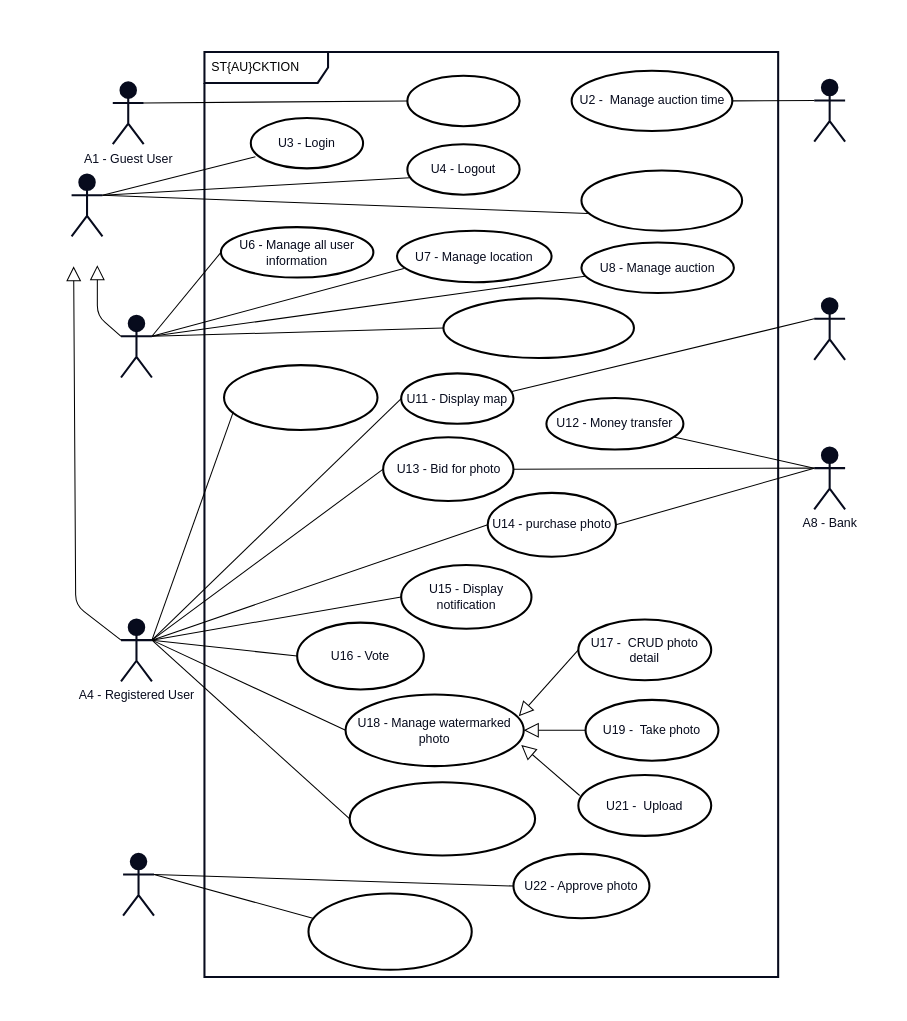
Image size: 907x1021. Some labels were removed from this diagram. Each missing label, with the centre of its shape:
"A2 - <<Abstract User>>" belongs at (x=86, y=205).
"A3 - System Admin" belongs at (x=135, y=346).
"A5 - Validating Agent" belongs at (x=138, y=884).
"A6 - Timer" belongs at (x=829, y=110).
"A7 - Google Api" belongs at (x=829, y=328).
"U1 - Register" belongs at (x=463, y=100).
"U10 - Request to create location" belongs at (x=300, y=397).
"U20 - Manage purchase photo" belongs at (x=442, y=818).
"U23 - Approve location" belongs at (x=389, y=931).
"U5 - Manage own user information" belongs at (x=661, y=200).
"U9 - Manage all watermarked photo" belongs at (x=538, y=327).
